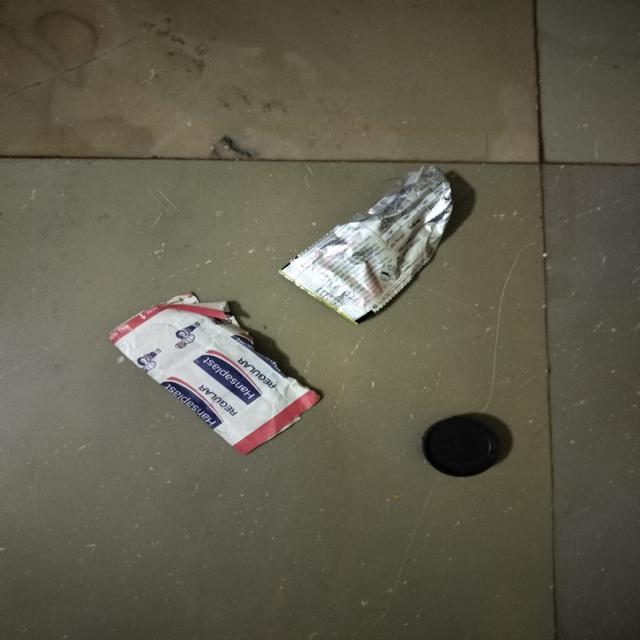paper: (281, 156, 472, 329), (105, 298, 317, 452)
plastic: (381, 396, 598, 494)
